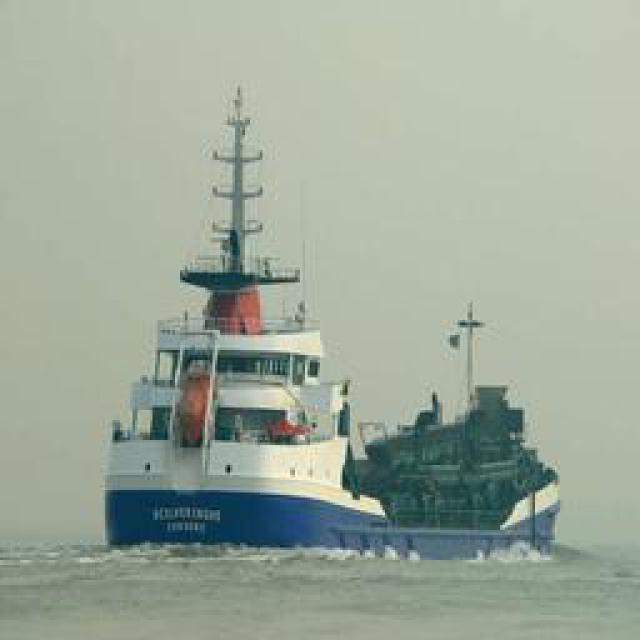Ship: (98, 59, 580, 567)
